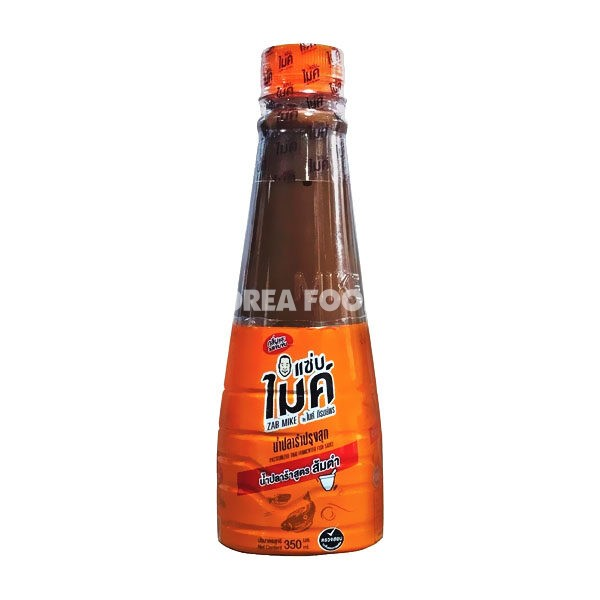glass_bottle: (197, 30, 400, 566)
